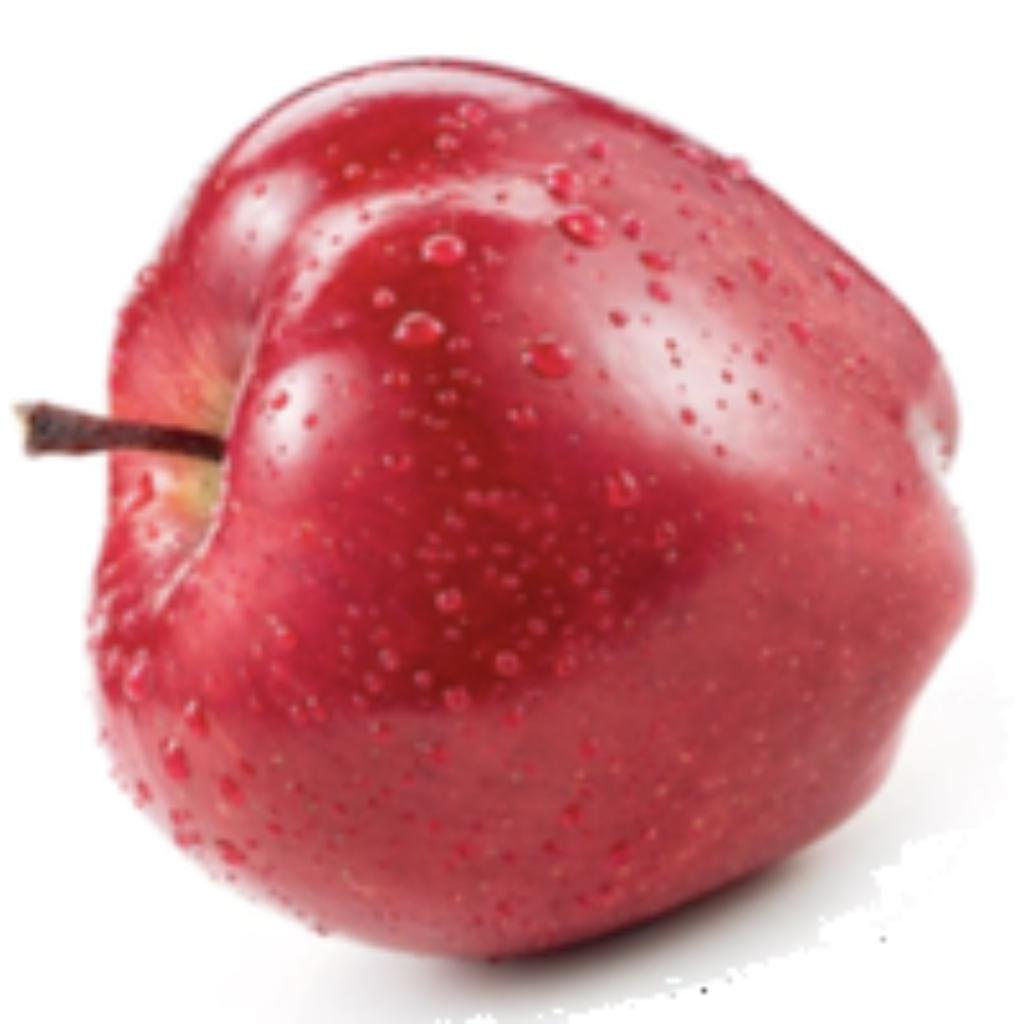apple: (65, 46, 978, 1019)
